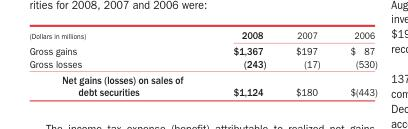table: (28, 29, 376, 97)
table column: (28, 29, 207, 97), (207, 29, 280, 97), (280, 29, 334, 97), (334, 29, 376, 97)
table column header: (28, 29, 376, 42)
table row: (28, 71, 376, 97), (28, 42, 376, 57), (28, 57, 376, 71), (28, 29, 376, 42)
